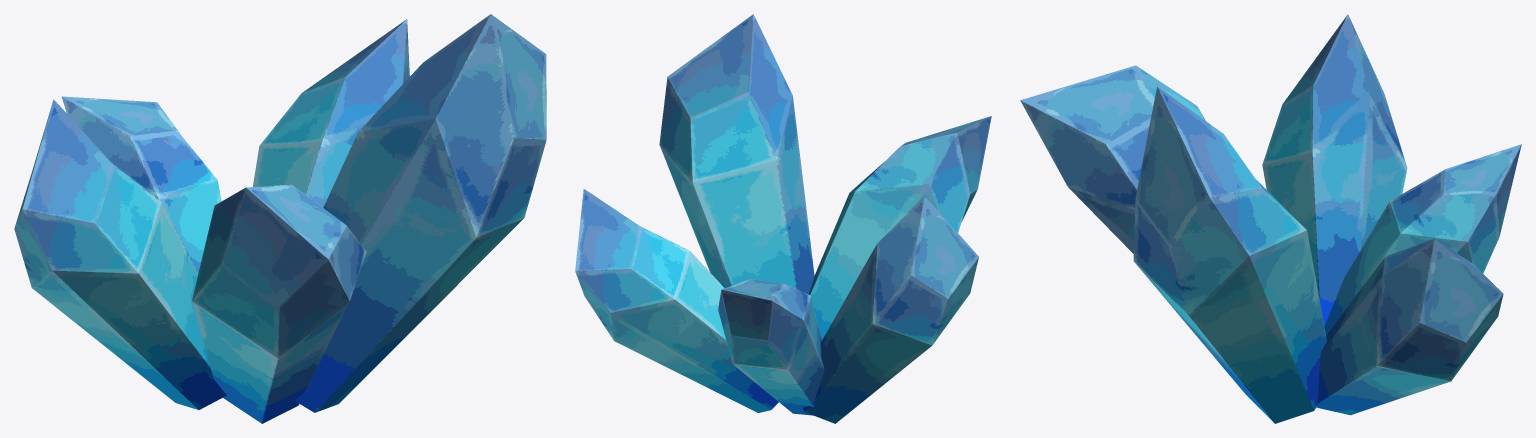
File: Crystall.fbx
The picture shows the model from 3 angles, left to right: view 1: azimuth 30°, elevation 25°; view 2: azimuth 150°, elevation 25°; view 3: azimuth 270°, elevation 25°; orthographic projection. The views are drawn at different scales.
Visible parts, largest first — view 1: Crystal1; view 2: Crystal1; view 3: Crystal1.
Boxes of the visible parts, x1=… form: Crystal1: x1=14, y1=14, x2=546, y2=423; Crystal1: x1=575, y1=14, x2=991, y2=423; Crystal1: x1=1020, y1=14, x2=1521, y2=423.
Size of the model in its own units: 328 by 282 by 338.
